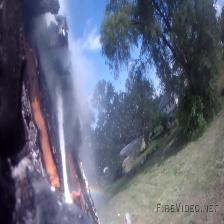smoke: (39, 0, 108, 224)
